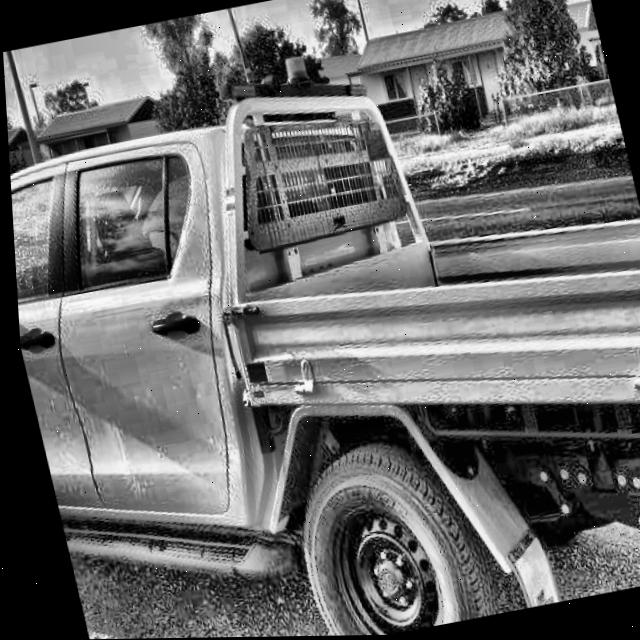light_vehicle: (1, 7, 640, 640)
